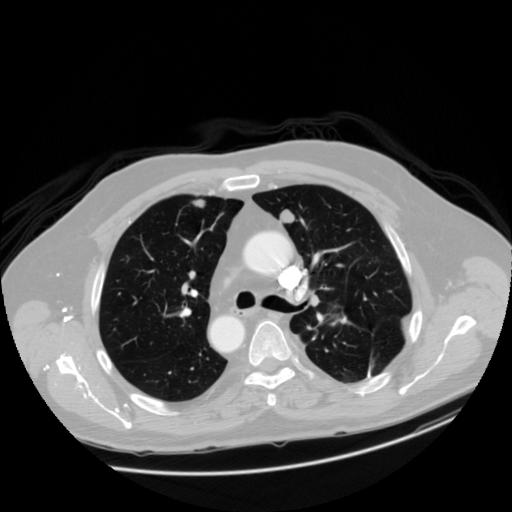nodule: (193, 195, 209, 211)
